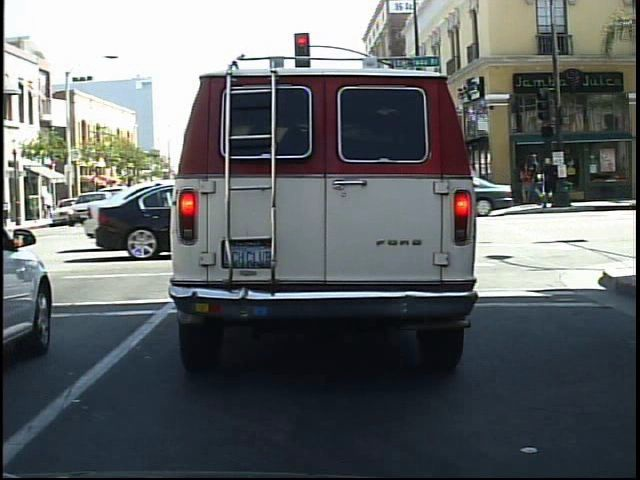person: (537, 154, 563, 211), (526, 150, 547, 210), (516, 157, 540, 207), (538, 159, 559, 209)
